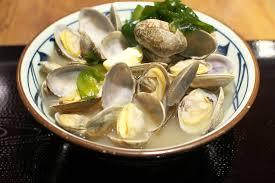asari: (14, 1, 264, 164)
